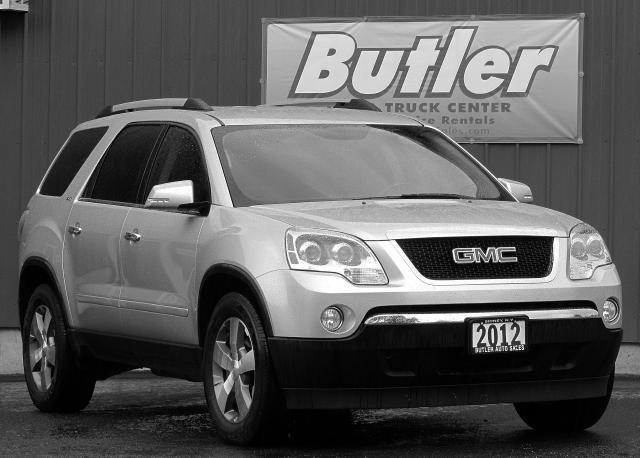car: (16, 94, 625, 442)
